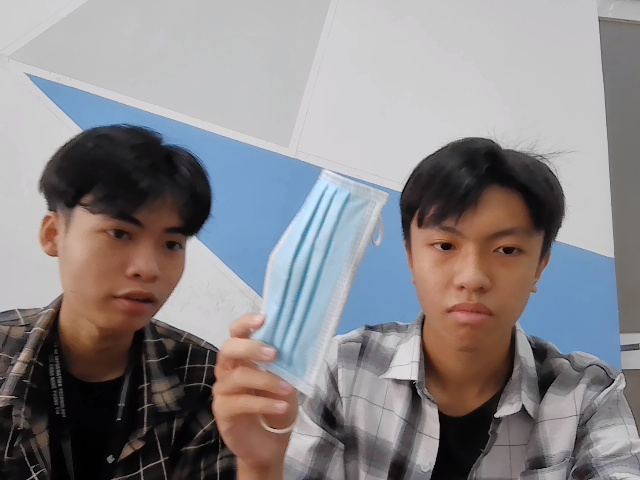human: (40, 122, 214, 335), (399, 141, 566, 354)
mask: (243, 163, 385, 402)
